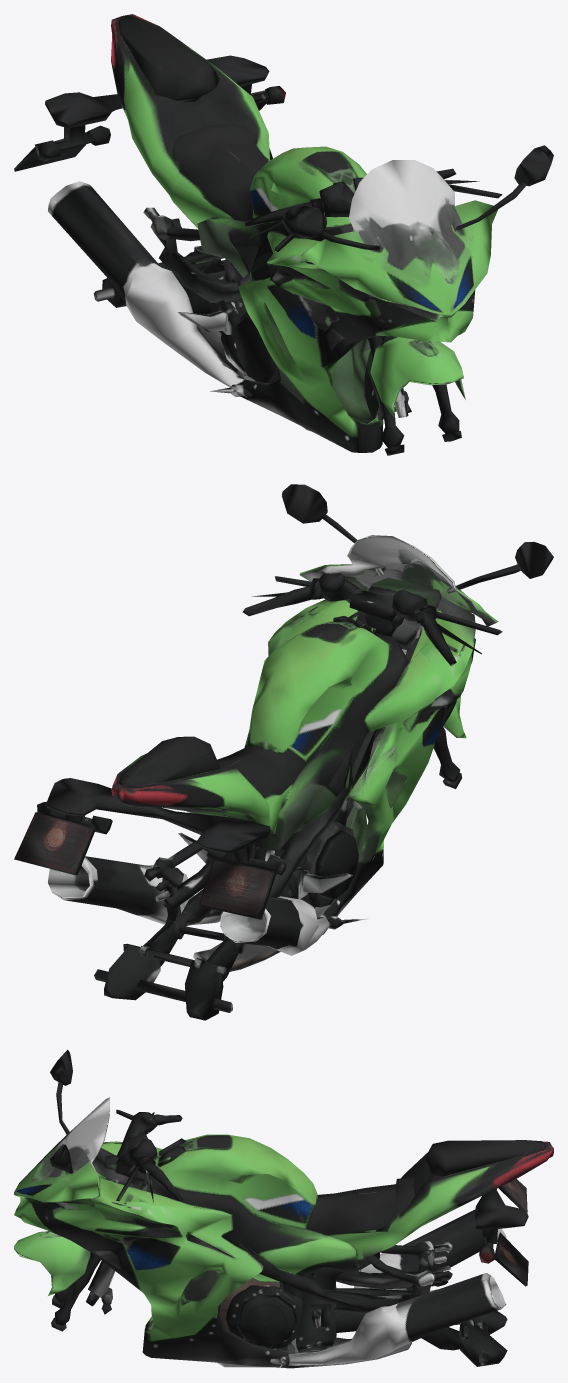
The model's file is kawaguchi_kamari_20z.obj.
3 views of the same model, one above another, from view 1: azimuth 30°, elevation 25°; view 2: azimuth 150°, elevation 25°; view 3: azimuth 270°, elevation 25° (orthographic). The views are drawn at different scales.
Visible parts, largest first — view 1: body; view 2: body; view 3: body.
Part boxes in pixels (x1,y1,x2,y2): body: (14, 14, 553, 455); body: (14, 484, 553, 1020); body: (14, 1049, 553, 1368).
Bounding box in the file's own units: 0.963 × 1.13 × 2.05.
